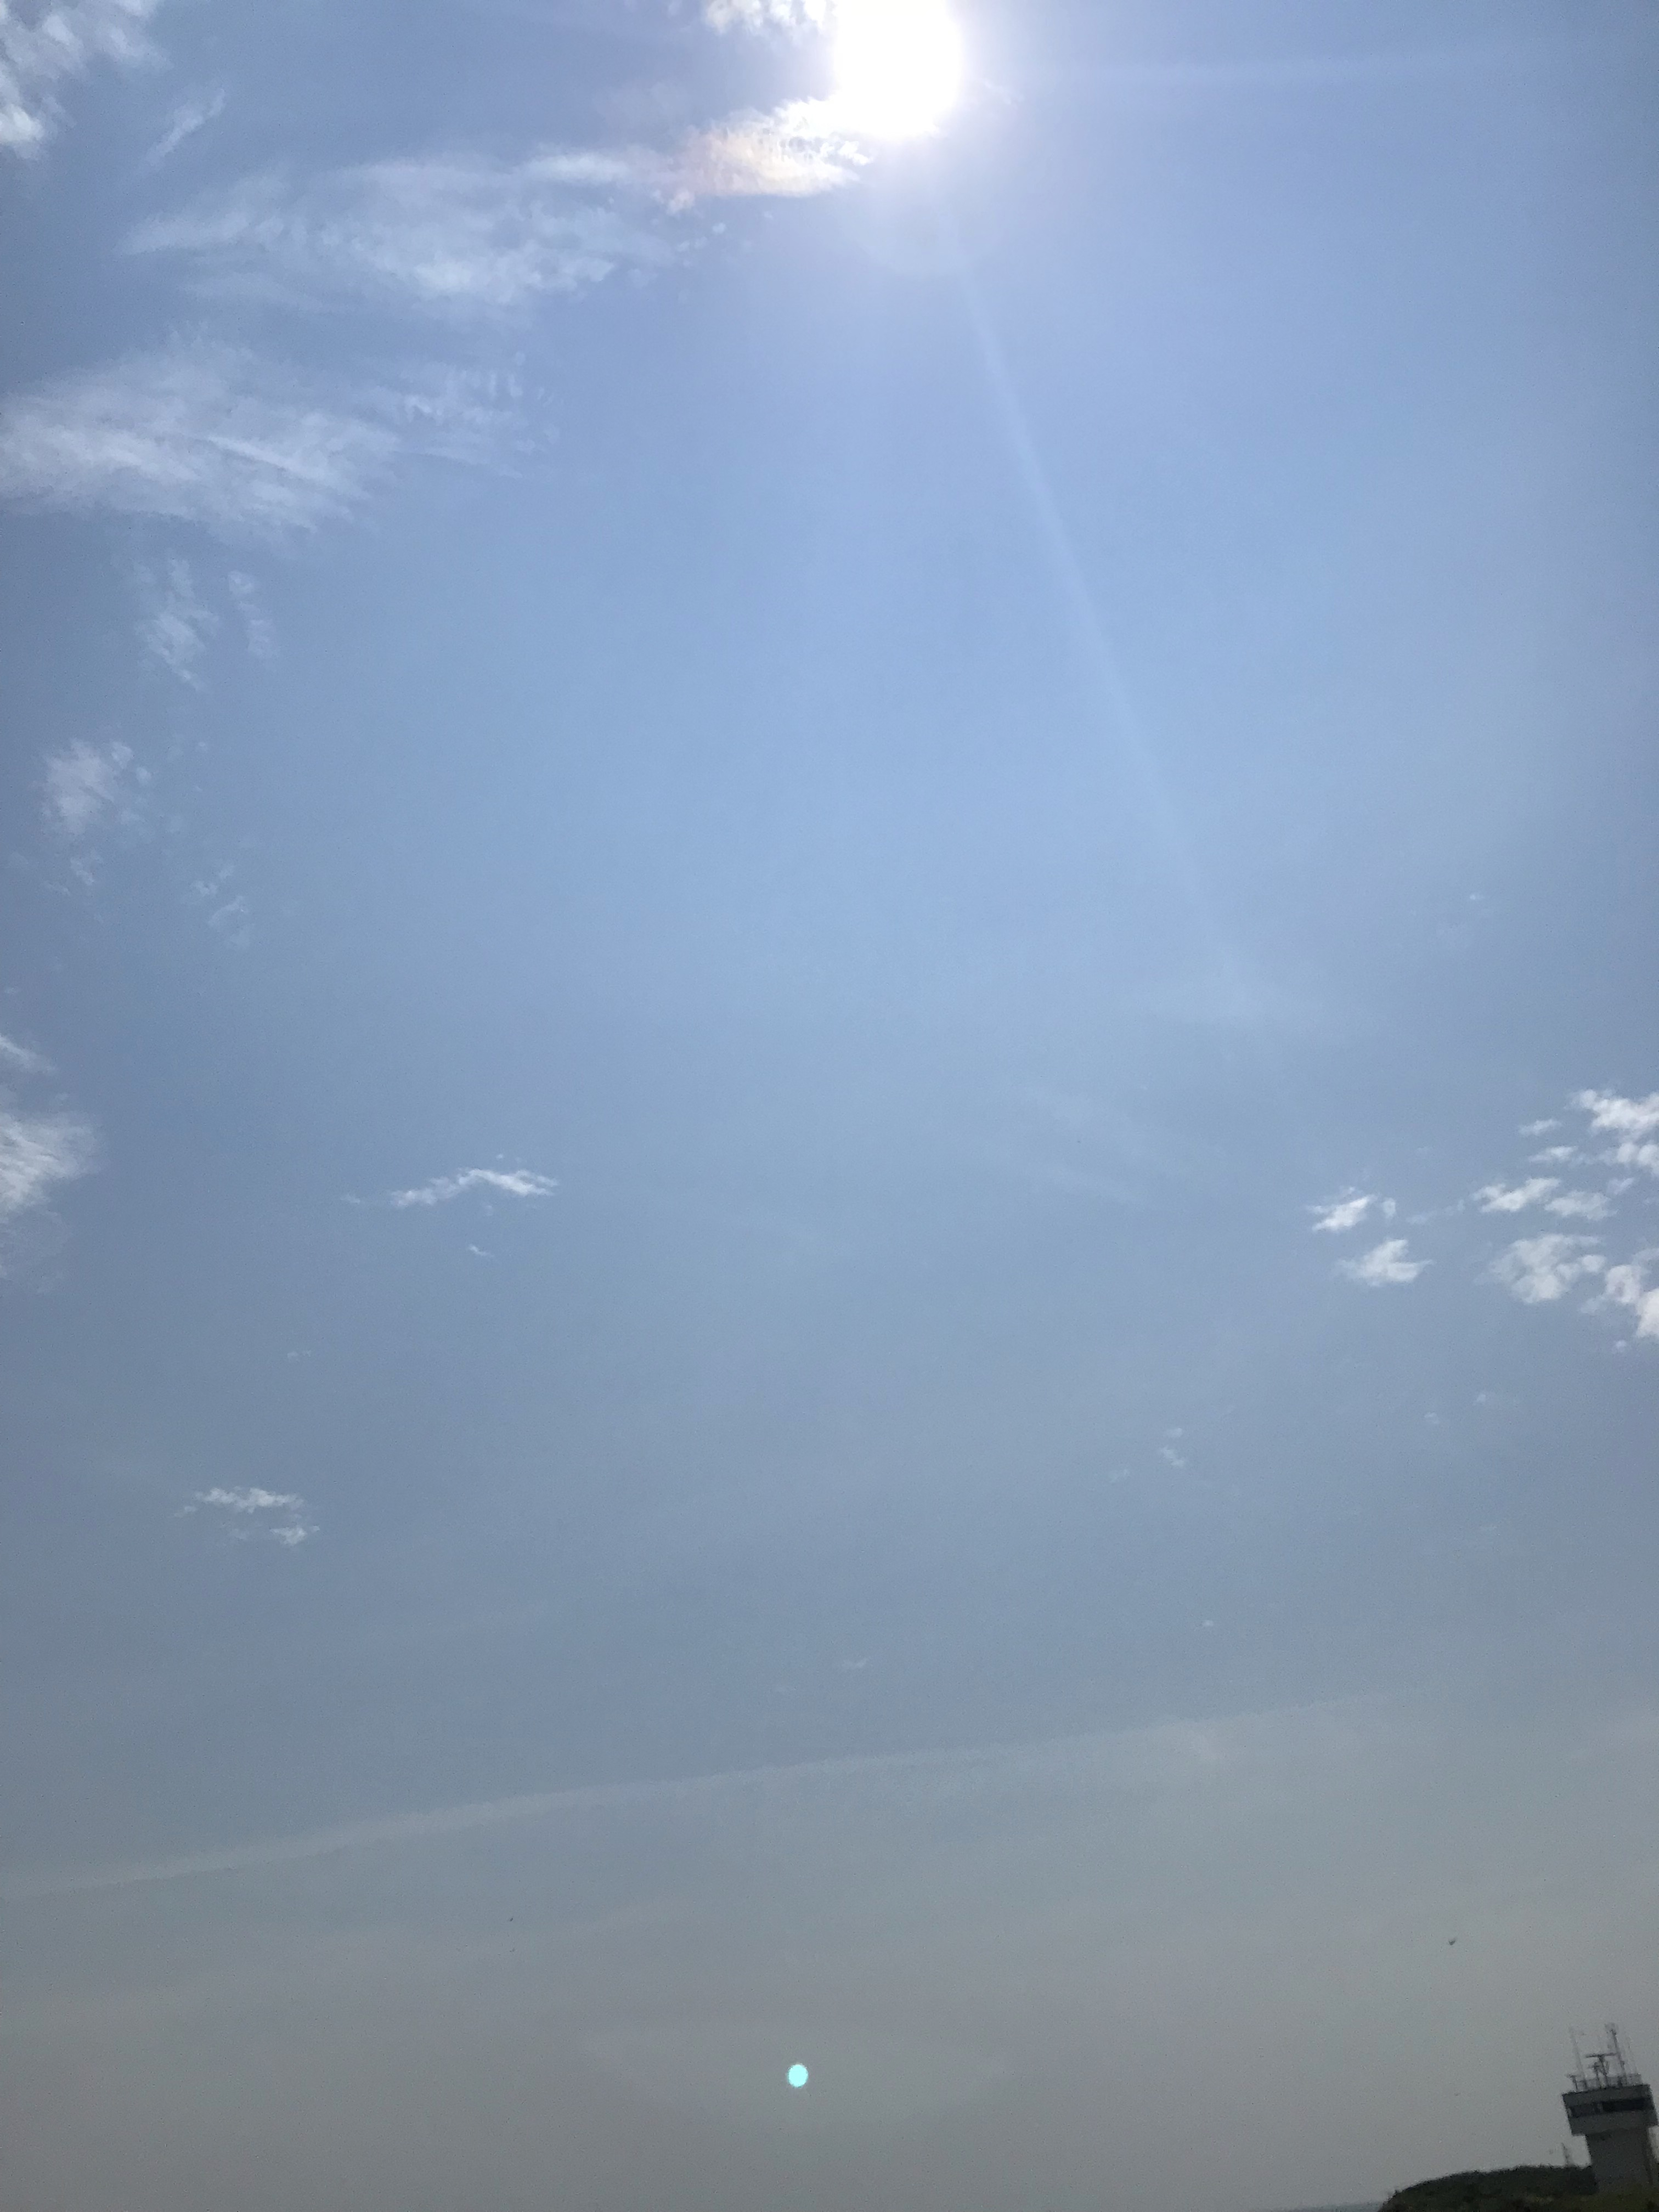flare: (784, 2060, 812, 2090)
